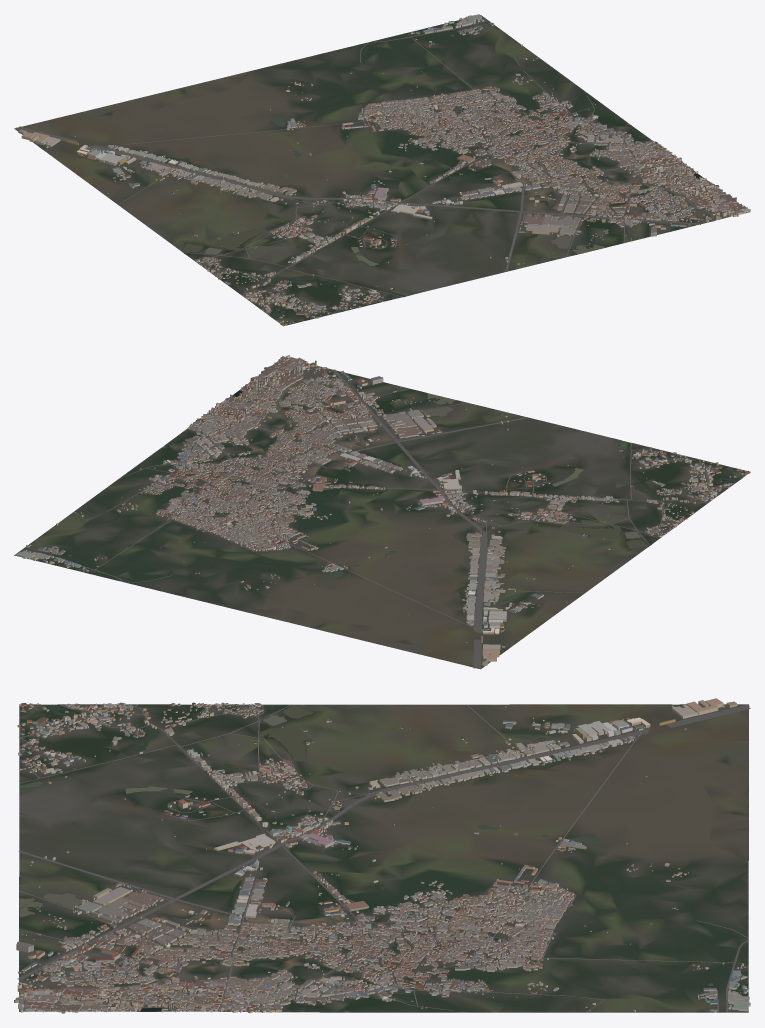
3 renders of one model, top to bottom at view 1: azimuth 30°, elevation 25°; view 2: azimuth 150°, elevation 25°; view 3: azimuth 270°, elevation 25°, orthographic. The views are drawn at different scales.
Visible parts, largest first — view 1: ground, buildings, roads, water; view 2: ground, buildings, roads, water; view 3: ground, buildings, roads, water.
Boxes of the visible parts, x1,y1,x2,y2 form: ground: [14, 15, 749, 326]; buildings: [18, 14, 750, 325]; roads: [15, 20, 743, 314]; water: [41, 34, 703, 319]; ground: [14, 364, 747, 669]; buildings: [16, 355, 750, 665]; roads: [22, 366, 735, 668]; water: [68, 390, 740, 649]; ground: [19, 704, 748, 1012]; buildings: [14, 698, 750, 1013]; roads: [18, 704, 750, 1012]; water: [19, 704, 728, 1011].
Bounding box in the file's own units: 2842 × 33.65 × 2832.
